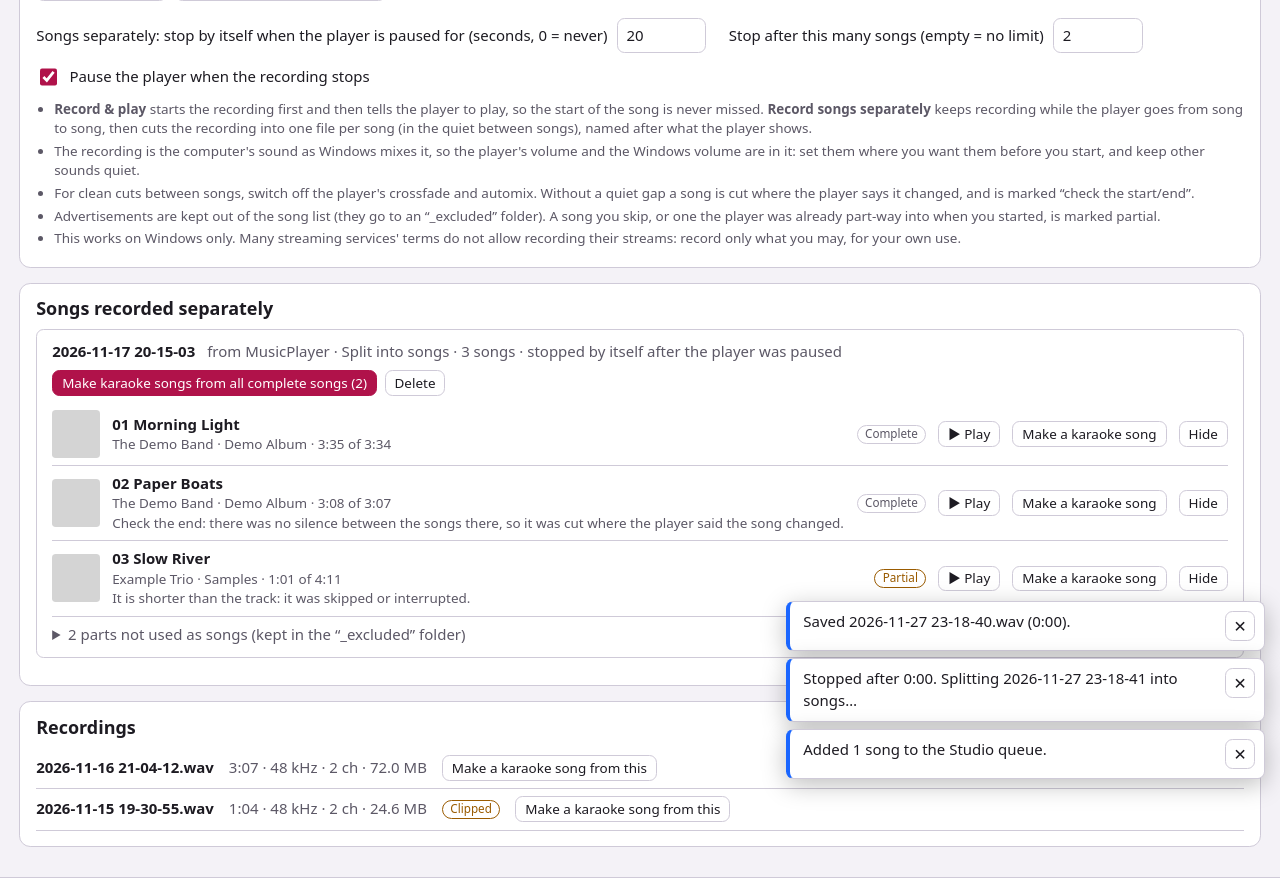
Recorder: songs recorded separately › lists a finished session: complete and partial songs, unsure cuts, excluded parts, preview
Later steps or results of the test are not shown.
(page scrolled)
Expected: the list item with class "rec-session" shows "2026-11-17 20-15-03", top-left (52, 341), bottom-right (195, 361)
Expected: the list item with class "rec-session" shows "from MusicPlayer · Split into songs · 3 songs · stopped by itself after the player was paused", top-left (36, 329), bottom-right (1244, 658)
Click the button with class "rec-song__preview" in the row of "Morning Light".
click(969, 434)  # box top-left (938, 422), bottom-right (1000, 447)
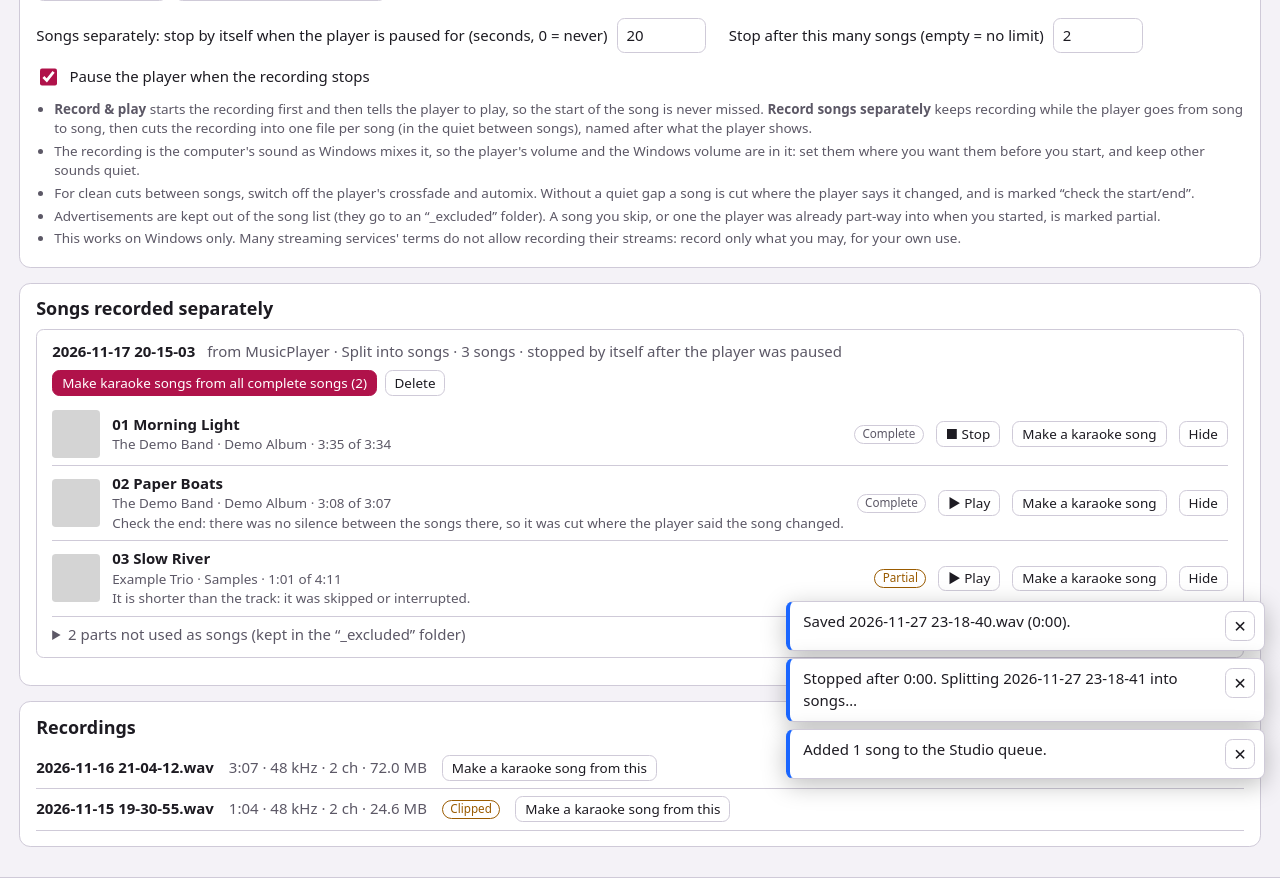
Now the button with class "rec-song__preview" shows "Stop", box top-left (936, 422), bottom-right (1000, 447)
